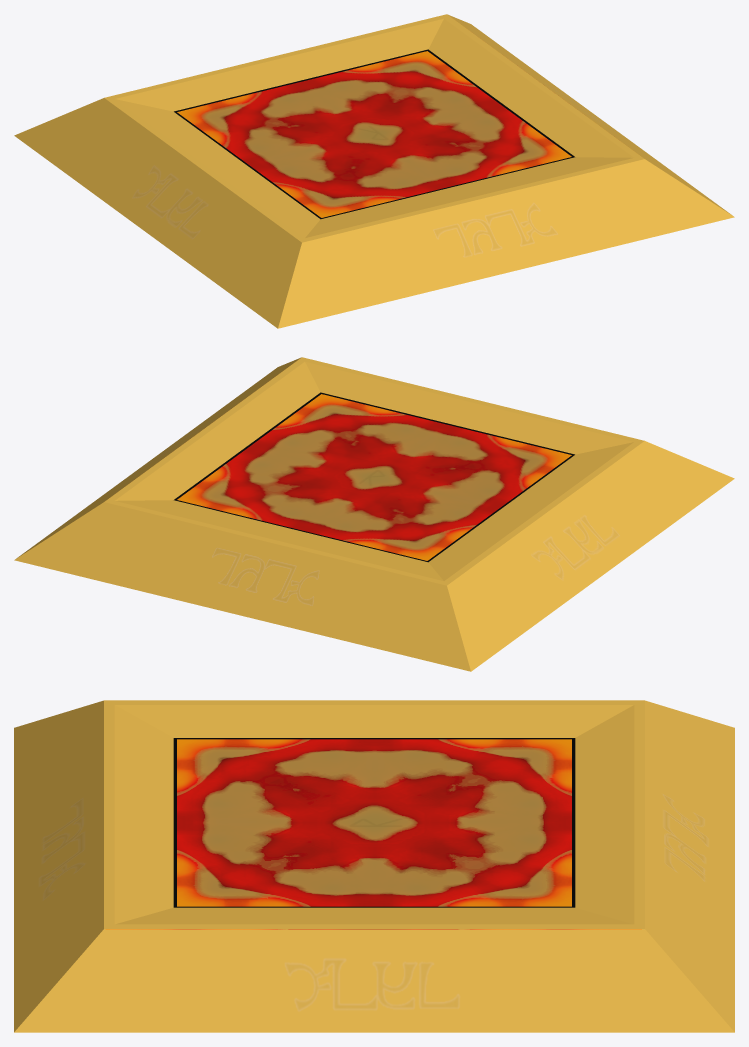
Rendered from EndPad.fbx.
The picture shows the model from 3 angles, top to bottom: view 1: azimuth 30°, elevation 25°; view 2: azimuth 150°, elevation 25°; view 3: azimuth 270°, elevation 25°; orthographic projection. The views are drawn at different scales.
Parts seen in each view (by area): view 1: Pad; view 2: Pad; view 3: Pad.
Boxes of the visible parts, box(x1,y1,x2,y2) form: Pad: box(14, 14, 734, 328); Pad: box(14, 357, 734, 671); Pad: box(14, 700, 734, 1032).
Size of the model in its own units: 100 by 10.03 by 100.
